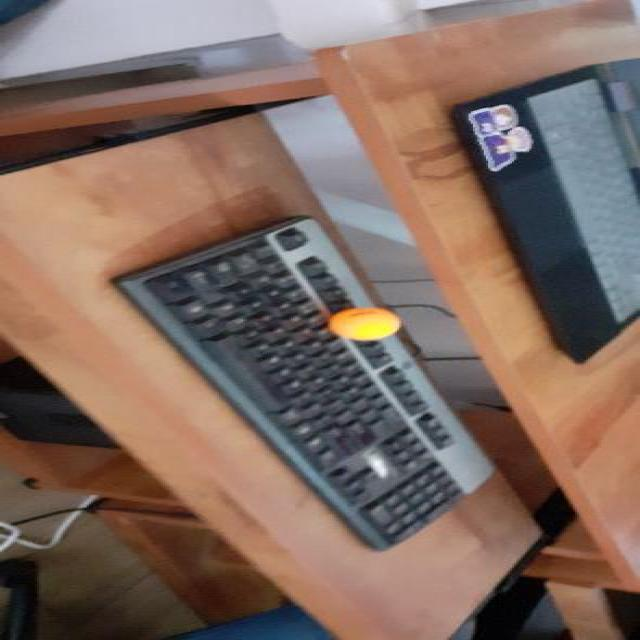oball: (325, 307, 400, 344)
